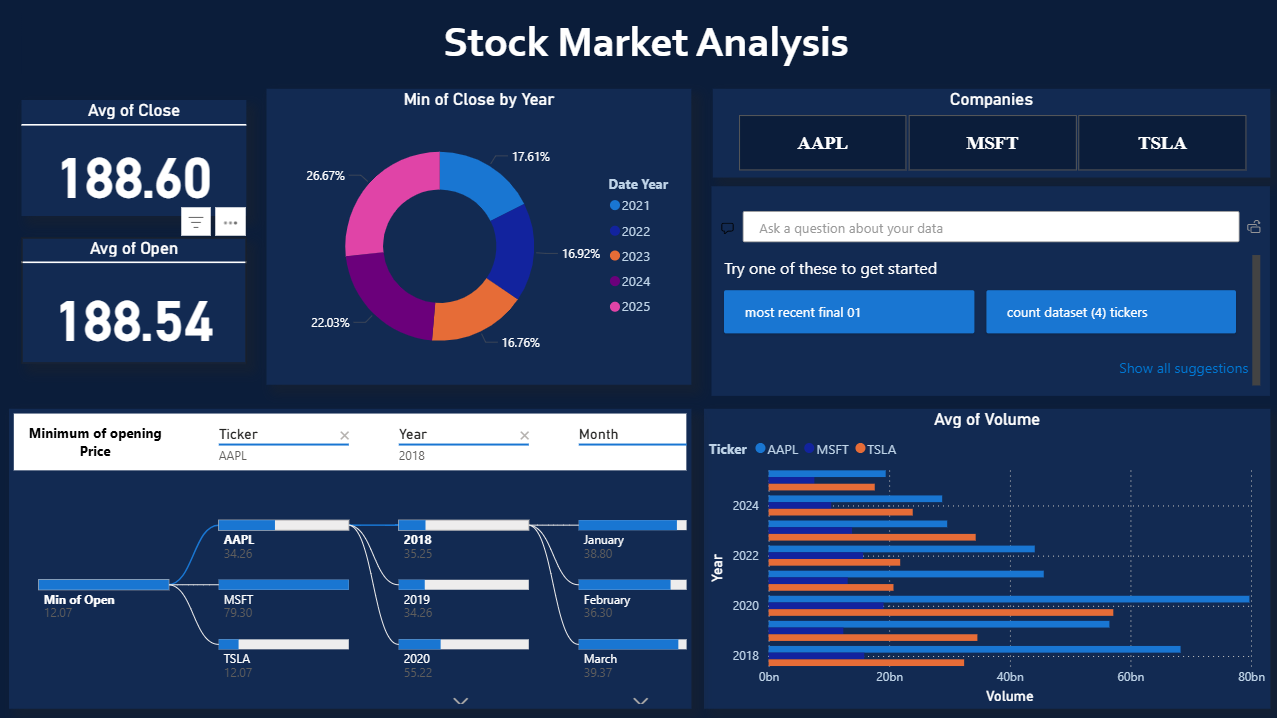

What the dashboard file says about the page in this screenshot:
{"tool":"powerbi","page":{"name":"Page 1","canvas":[1280,720],"ordinal":0},"visuals":[{"type":"slicer","title":"Companies","fields":{"Values":["final01.Ticker"]},"box":[713.8,88.8,557.5,88.8],"z":0},{"type":"clusteredBarChart","title":"Avg of Volume","fields":{"Category":["final01.Date.Variation.Date Hierarchy.Year","final01.Date.Variation.Date Hierarchy.Month"],"Y":["Sum(final01.Volume)"],"Series":["final01.Ticker"]},"box":[705,408.8,566.2,300],"z":1000},{"type":"decompositionTreeVisual","fields":{"Analyze":["Min(final01.Open)"],"ExplainBy":["final01.Ticker","final01.Date.Variation.Date Hierarchy.Year","final01.Date.Variation.Date Hierarchy.Month"]},"box":[10.5,409.3,682.6,300],"z":2000},{"type":"card","title":"Avg of Close","fields":{"Values":["Avg(final01.Close)"]},"box":[22.5,100,225,116.2],"z":3000},{"type":"card","title":"Avg of Open","fields":{"Values":["Avg(final01.Open)"]},"box":[22.5,251.2,225,126.2],"z":4000},{"type":"textbox","box":[22.5,10,1248.8,63.8],"z":5000},{"type":"donutChart","fields":{"Category":["final01.Date.Variation.Date Hierarchy.Year","final01.Date.Variation.Date Hierarchy.Month"],"Y":["Min(final01.Close)"]},"box":[267.5,88.8,425,306.2],"z":6000},{"type":"textbox","box":[22.5,418.8,147.5,47.5],"z":7000},{"type":"qnaVisual","box":[712.8,186,558.1,209.3],"z":8000}]}

Visuals, with their boxes in screenshot pixels (x1, y1, x2, y2), scaled from the page's 1280x720 canvas onto the 1277x718 screenshot:
"Companies" slicer: region(712, 89, 1268, 177)
"Avg of Volume" clusteredBarChart: region(703, 408, 1268, 707)
decompositionTreeVisual - Min(final01.Open) x final01.Ticker: region(10, 408, 691, 707)
"Avg of Close" card: region(22, 100, 247, 216)
"Avg of Open" card: region(22, 251, 247, 376)
textbox: region(22, 10, 1268, 74)
donutChart - final01.Date.Variation.Date Hierarchy.Year x final01.Date.Variation.Date Hierarchy.Month: region(267, 89, 691, 394)
textbox: region(22, 418, 170, 465)
qnaVisual: region(711, 185, 1268, 394)
